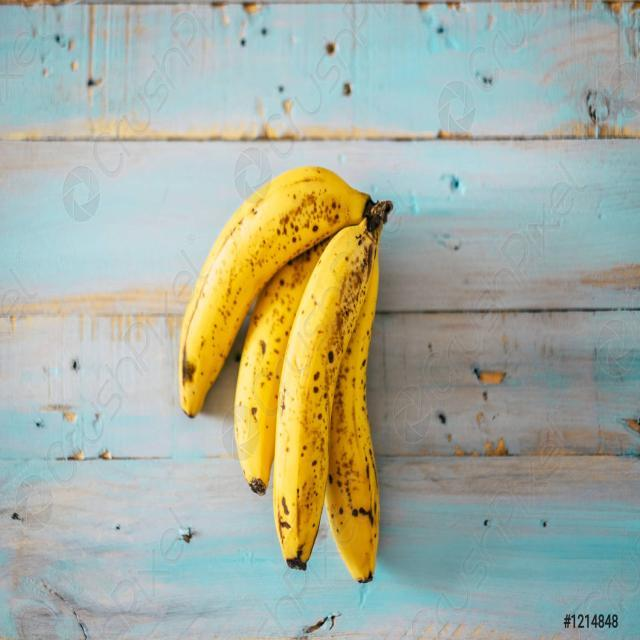banana: (176, 161, 396, 595)
